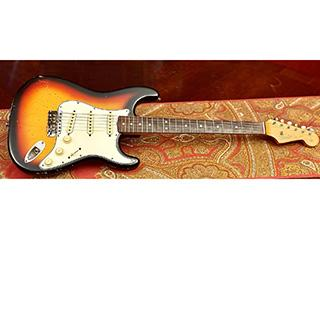Fender Stratocaster: (6, 72, 320, 176)
SSS: (65, 111, 117, 137)
